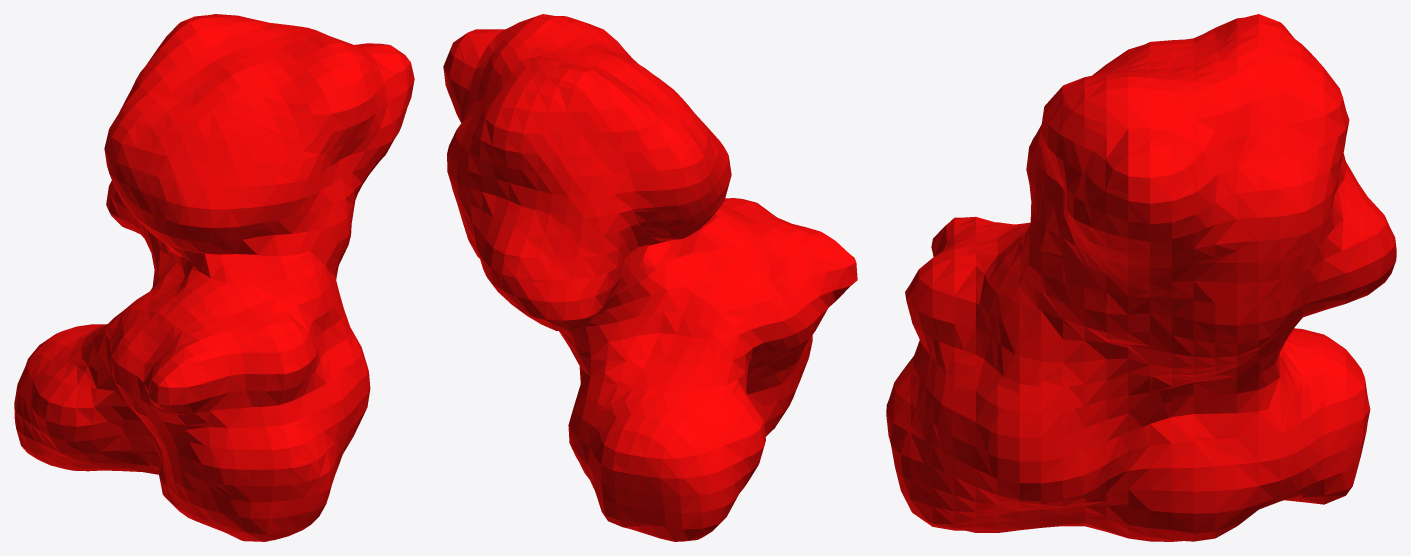
File: nudC_coarse.dae
The picture shows the model from 3 angles, left to right: view 1: azimuth 30°, elevation 25°; view 2: azimuth 150°, elevation 25°; view 3: azimuth 270°, elevation 25°; orthographic projection. The views are drawn at different scales.
Visible parts, largest first — view 1: nudC; view 2: nudC; view 3: nudC.
Part boxes in pixels (x1,y1,x2,y2): nudC: (14,14,414,541); nudC: (443,14,857,541); nudC: (886,14,1396,541).
Bounding box in the file's own units: 51.61 × 62.08 × 52.88.
